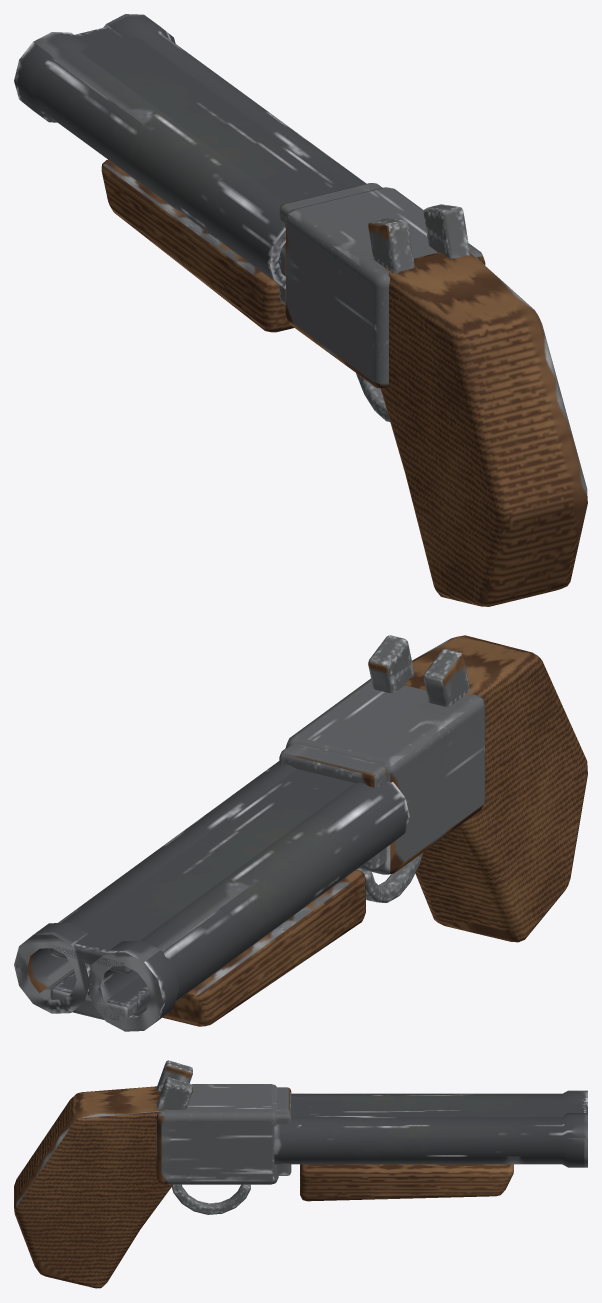
Rendered from sawn-off-shotgun.glb.
3 views of the same model, one above another, from view 1: azimuth 30°, elevation 25°; view 2: azimuth 150°, elevation 25°; view 3: azimuth 270°, elevation 25° (orthographic). The views are drawn at different scales.
Visible parts, largest first — view 1: Shotgun_Stock, Shotgun_Barrel_R, Shotgun_Receiver, Shotgun_Rib, Shotgun_Forend, Shotgun_Barrel_L, Shotgun_Hammer_R, Shotgun_Hammer_L, Shotgun_Breech; view 2: Shotgun_Stock, Shotgun_Barrel_R, Shotgun_Receiver, Shotgun_Rib, Shotgun_Forend, Shotgun_Barrel_L, Shotgun_Breech, Shotgun_Wedge, Shotgun_Hammer_R, Shotgun_Hammer_L, Shotgun_Guard; view 3: Shotgun_Stock, Shotgun_Barrel_L, Shotgun_Receiver, Shotgun_Forend, Shotgun_Rib, Shotgun_Barrel_R, Shotgun_Guard, Shotgun_Hammer_L, Shotgun_Breech, Shotgun_Hammer_R.
Boxes of the visible parts, x1,y1,x2,y2 form: Shotgun_Stock: [381, 252, 587, 606]; Shotgun_Barrel_R: [14, 32, 286, 289]; Shotgun_Receiver: [285, 187, 485, 388]; Shotgun_Rib: [75, 27, 344, 203]; Shotgun_Forend: [101, 160, 293, 332]; Shotgun_Barrel_L: [103, 14, 366, 188]; Shotgun_Hammer_R: [368, 218, 414, 273]; Shotgun_Hammer_L: [423, 204, 470, 258]; Shotgun_Breech: [279, 183, 382, 304]; Shotgun_Stock: [405, 635, 587, 942]; Shotgun_Barrel_R: [87, 781, 409, 1031]; Shotgun_Receiver: [285, 678, 485, 874]; Shotgun_Rib: [50, 769, 354, 973]; Shotgun_Forend: [162, 869, 365, 1026]; Shotgun_Barrel_L: [14, 761, 296, 1013]; Shotgun_Breech: [279, 744, 386, 870]; Shotgun_Wedge: [50, 971, 149, 1022]; Shotgun_Hammer_R: [423, 649, 470, 706]; Shotgun_Hammer_L: [368, 635, 414, 693]; Shotgun_Guard: [357, 852, 423, 902]; Shotgun_Stock: [14, 1086, 172, 1288]; Shotgun_Barrel_L: [274, 1113, 587, 1167]; Shotgun_Receiver: [156, 1084, 278, 1184]; Shotgun_Forend: [300, 1164, 513, 1201]; Shotgun_Rib: [291, 1099, 587, 1117]; Shotgun_Barrel_R: [291, 1090, 587, 1106]; Shotgun_Guard: [171, 1184, 250, 1214]; Shotgun_Hammer_L: [157, 1077, 192, 1109]; Shotgun_Breech: [276, 1087, 291, 1175]; Shotgun_Hammer_R: [157, 1060, 192, 1091].
Size of the model in its own units: 0.0754 by 0.1593 by 0.4025.
1 material, 1 textured.
